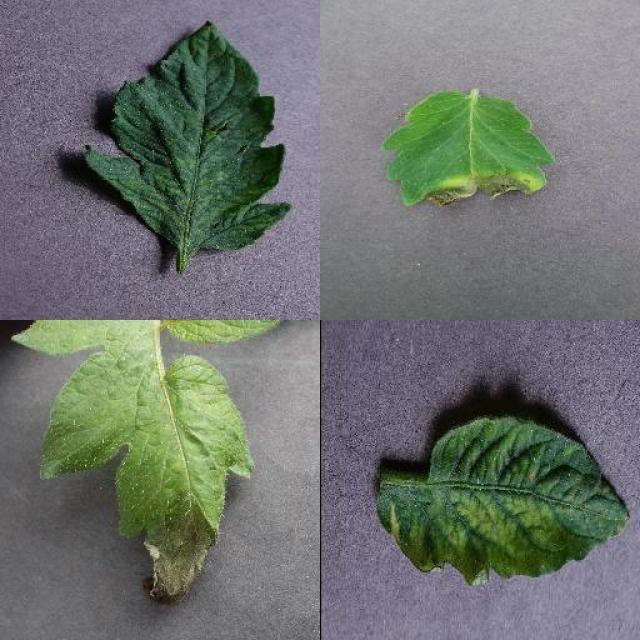Late Blight: (12, 320, 256, 608), (379, 90, 556, 215)
